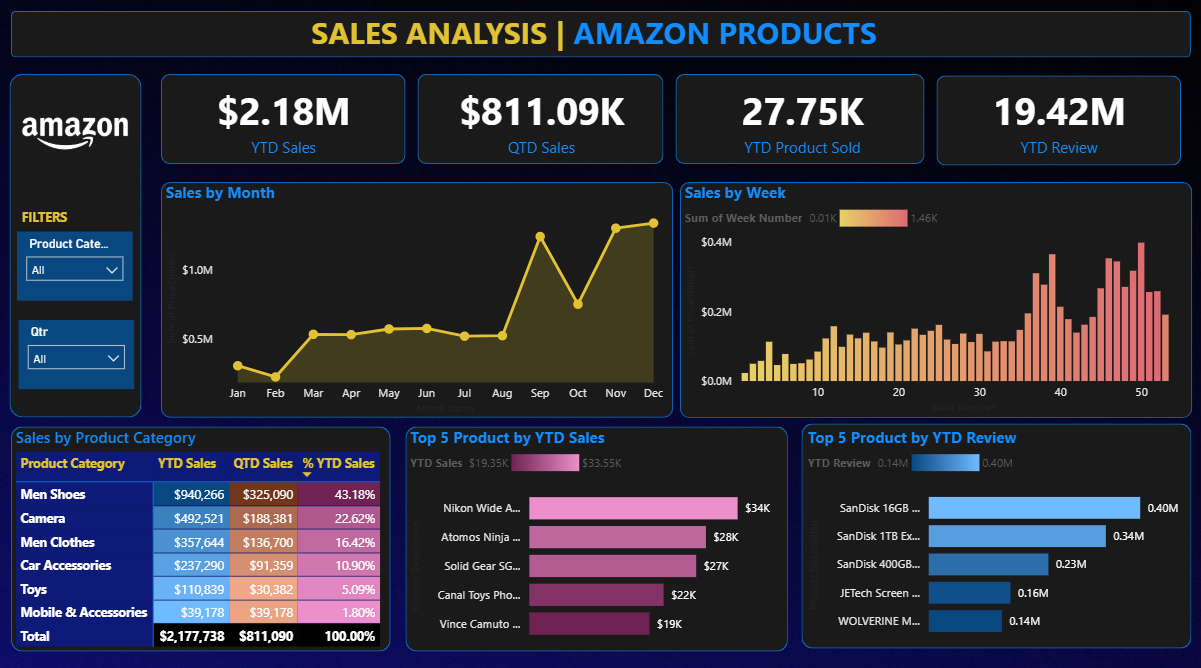

The dashboard page shown, as its layout file describes it:
{"tool":"powerbi","page":{"name":"Page 1","canvas":[1280,720],"ordinal":0},"visuals":[{"type":"shape","box":[15.1,13.2,1251,49.1],"z":0},{"type":"textbox","box":[329.3,8,625.1,62],"z":1000},{"type":"shape","box":[447,79.5,260.9,95.4],"z":2000},{"type":"shape","box":[14.3,79.5,140,364.2],"z":3000},{"type":"shape","box":[175,79.5,259.3,95.4],"z":4000},{"type":"card","fields":{"Values":["Amazon_Data.YTD Sales"]},"box":[175,81.1,259.3,93.8],"z":5000},{"type":"card","fields":{"Values":["Amazon_Data.QTD Sales"]},"box":[448.6,81.1,259.3,93.8],"z":6000},{"type":"shape","box":[720.5,79.5,264,95.4],"z":7000},{"type":"shape","box":[997.3,81.1,259.3,95.4],"z":8000},{"type":"card","fields":{"Values":["Amazon_Data.YTD Product Sold"]},"box":[725.3,81.1,259.3,93.8],"z":9000},{"type":"card","fields":{"Values":["Amazon_Data.YTD Review"]},"box":[997.3,81.1,259.3,93.8],"z":10000},{"type":"shape","box":[175,194.1,543,250],"z":11000},{"type":"areaChart","title":"Sales by Month","fields":{"Category":["Date Table.Month Name"],"Y":["Sum(Amazon_Data.Price(Dollar))"]},"box":[175.2,194.5,543.1,250.4],"z":12000},{"type":"shape","box":[726,194.5,543.1,250.4],"z":13000},{"type":"shape","box":[15.9,453.3,402.4,238.6],"z":14000},{"type":"columnChart","title":"Sales by Week ","fields":{"Category":["Date Table.Week Number"],"Y":["Sum(Amazon_Data.Price(Dollar))"]},"box":[725.3,194.1,544,249.7],"z":15000},{"type":"pivotTable","title":"Sales by Product Category","fields":{"Rows":["Amazon_Data.Product Category"],"Values":["Amazon_Data.YTD Sales1","Amazon_Data.QTD Sales","Amazon_Data.YTD Sales"]},"box":[15.9,453.3,405.6,249.7],"z":16000},{"type":"shape","box":[434.2,453.3,405.6,238.6],"z":17000},{"type":"shape","box":[854.2,450.1,413.6,238.6],"z":18000},{"type":"barChart","title":"Top 5 Product by YTD Sales","fields":{"Category":["Amazon_Data.Product Description"],"Y":["Amazon_Data.YTD Sales"]},"box":[434.2,453.3,405.6,238.6],"z":19000},{"type":"barChart","title":"Top 5 Product by YTD Review","fields":{"Category":["Amazon_Data.Product Description"],"Y":["Amazon_Data.YTD Review"]},"box":[855.7,453.3,412,235.4],"z":20000},{"type":"slicer","fields":{"Values":["Amazon_Data.Product Category"]},"box":[22.3,246.5,122.5,73.2],"z":21000},{"type":"slicer","fields":{"Values":["Date Table.Qtr"]},"box":[23.9,340.4,122.5,73.2],"z":21001},{"type":"textbox","box":[22.3,216.3,70,30.2],"z":21002},{"type":"image","box":[17.5,79.5,132,125.7],"z":21003}]}

Visuals, with their boxes in screenshot pixels (x1, y1, x2, y2), scaled from the page's 1280x720 canvas onto the 1201x668 screenshot:
shape: [left=14, top=12, right=1188, bottom=58]
textbox: [left=309, top=7, right=895, bottom=65]
shape: [left=419, top=74, right=664, bottom=162]
shape: [left=13, top=74, right=145, bottom=412]
shape: [left=164, top=74, right=407, bottom=162]
card - Amazon_Data.YTD Sales: [left=164, top=75, right=407, bottom=162]
card - Amazon_Data.QTD Sales: [left=421, top=75, right=664, bottom=162]
shape: [left=676, top=74, right=924, bottom=162]
shape: [left=936, top=75, right=1179, bottom=164]
card - Amazon_Data.YTD Product Sold: [left=681, top=75, right=924, bottom=162]
card - Amazon_Data.YTD Review: [left=936, top=75, right=1179, bottom=162]
shape: [left=164, top=180, right=674, bottom=412]
"Sales by Month" areaChart: [left=164, top=180, right=674, bottom=413]
shape: [left=681, top=180, right=1191, bottom=413]
shape: [left=15, top=421, right=392, bottom=642]
"Sales by Week " columnChart: [left=681, top=180, right=1191, bottom=412]
"Sales by Product Category" pivotTable: [left=15, top=421, right=395, bottom=652]
shape: [left=407, top=421, right=788, bottom=642]
shape: [left=801, top=418, right=1190, bottom=639]
"Top 5 Product by YTD Sales" barChart: [left=407, top=421, right=788, bottom=642]
"Top 5 Product by YTD Review" barChart: [left=803, top=421, right=1189, bottom=639]
slicer - Amazon_Data.Product Category: [left=21, top=229, right=136, bottom=297]
slicer - Date Table.Qtr: [left=22, top=316, right=137, bottom=384]
textbox: [left=21, top=201, right=87, bottom=229]
image: [left=16, top=74, right=140, bottom=190]
